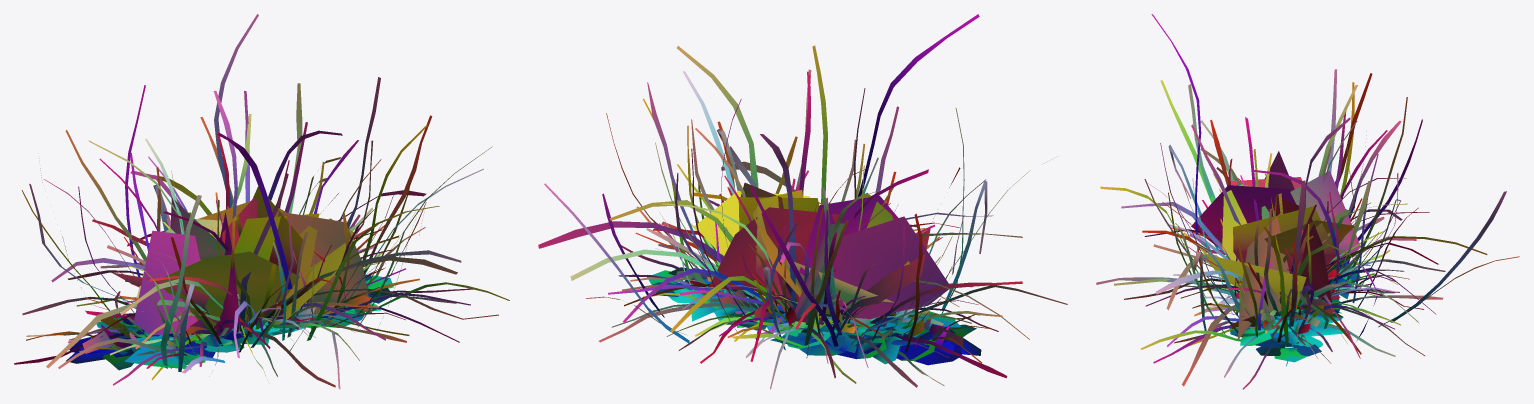
The model's file is Wild_Grass_vdilbaiia_Mid_vdilbaiia_VarA_LOD2.fbx.
The picture shows the model from 3 angles, left to right: view 1: azimuth 30°, elevation 25°; view 2: azimuth 150°, elevation 25°; view 3: azimuth 270°, elevation 25°; orthographic projection. The views are drawn at different scales.
Visible parts, largest first — view 1: _wfe0_VarA_LOD3; view 2: _wfe0_VarA_LOD3; view 3: _wfe0_VarA_LOD3.
Part boxes in pixels (box(x1,y1,x2,y2)): _wfe0_VarA_LOD3: box(14, 14, 509, 389); _wfe0_VarA_LOD3: box(538, 14, 1067, 389); _wfe0_VarA_LOD3: box(1096, 14, 1519, 389).
Size of the model in its own units: 224 by 130 by 203.
